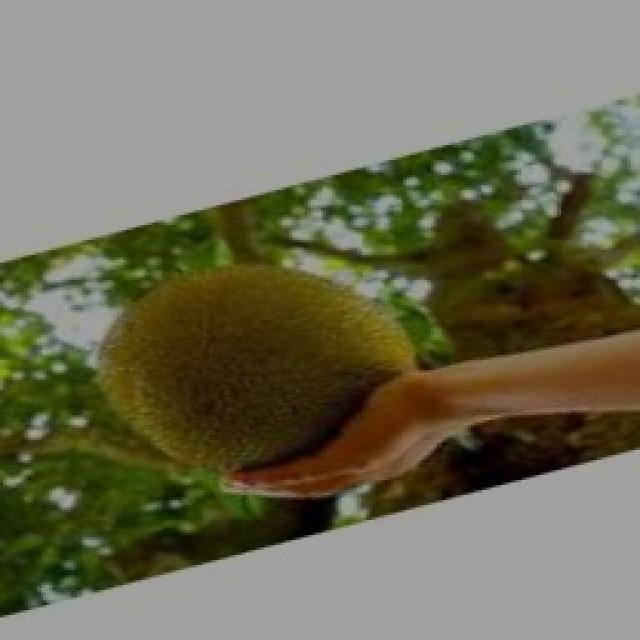Fruit: (62, 222, 456, 510)
